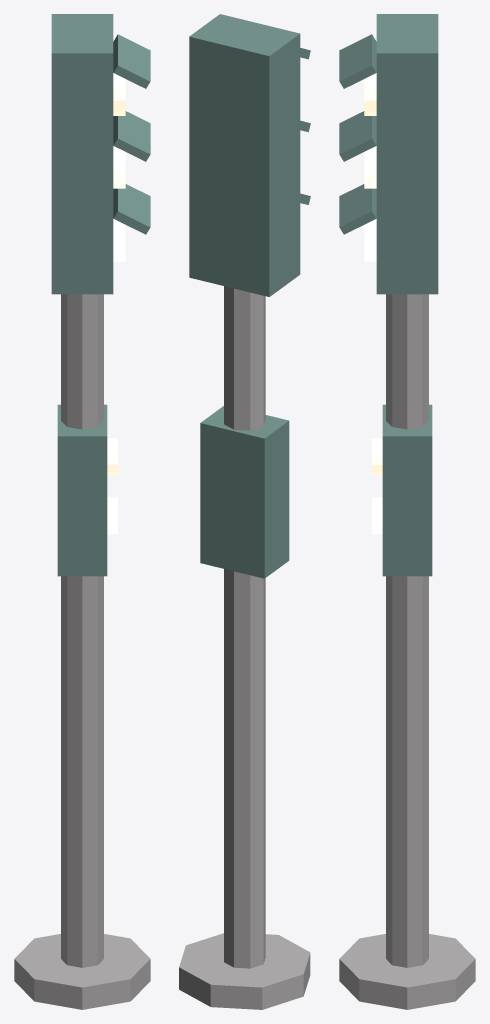
The model's file is Prop_TrafficLight_A.fbx.
3 renders of one model, left to right at view 1: azimuth 90°, elevation 25°; view 2: azimuth 150°, elevation 25°; view 3: azimuth 270°, elevation 25°, orthographic.
Visible parts, largest first — view 1: Prop_TrafficLight_A; view 2: Prop_TrafficLight_A; view 3: Prop_TrafficLight_A.
Part boxes in pixels (bbox=[...]): Prop_TrafficLight_A: bbox=[14, 14, 150, 1009]; Prop_TrafficLight_A: bbox=[179, 14, 310, 1009]; Prop_TrafficLight_A: bbox=[339, 14, 475, 1009].
Size of the model in its own units: 0.44 by 3.38 by 0.44.
